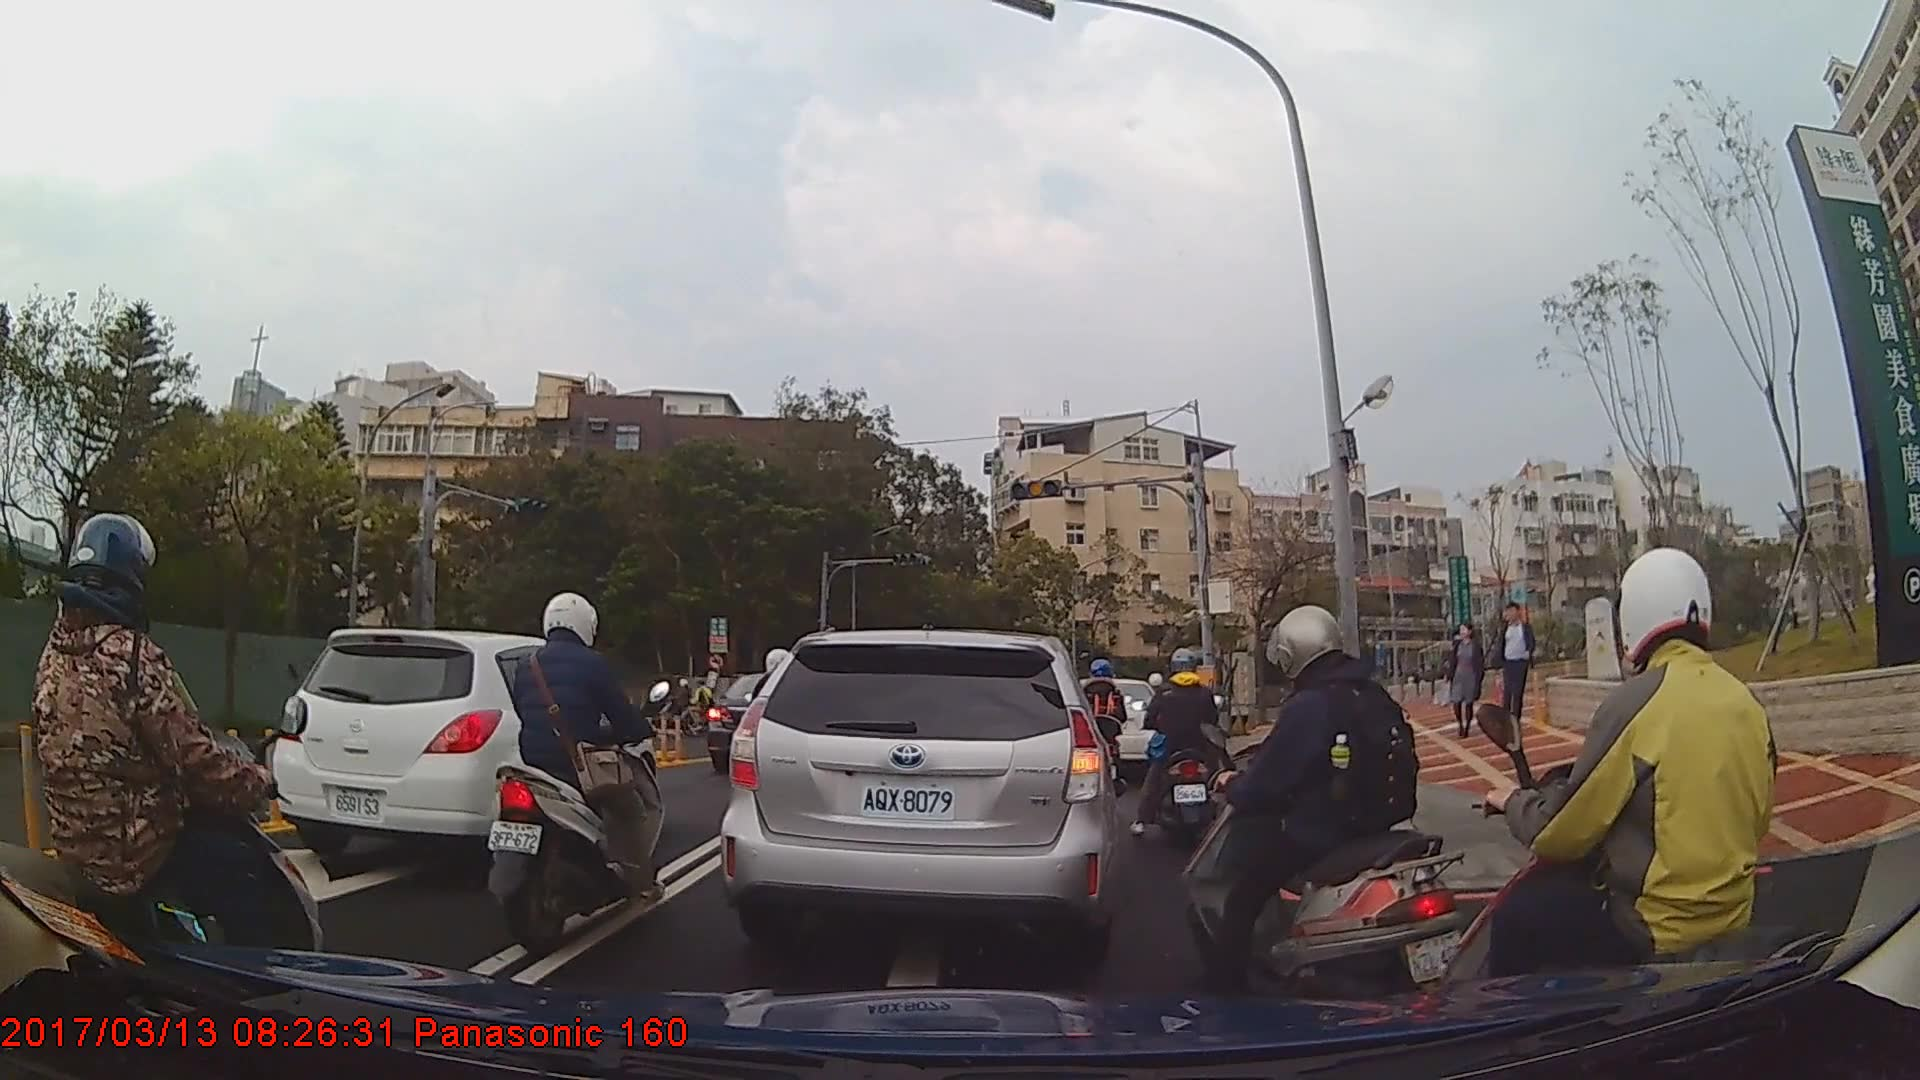pedestrian: (1491, 604, 1539, 741), (1445, 624, 1490, 740)
rider: (1419, 547, 1858, 1078), (1, 512, 334, 1022), (1177, 603, 1474, 1014), (485, 592, 674, 954), (1137, 642, 1240, 858), (1065, 659, 1131, 805)
vehicle: (717, 626, 1118, 959), (272, 626, 652, 866), (707, 672, 832, 776), (1064, 676, 1171, 783)
